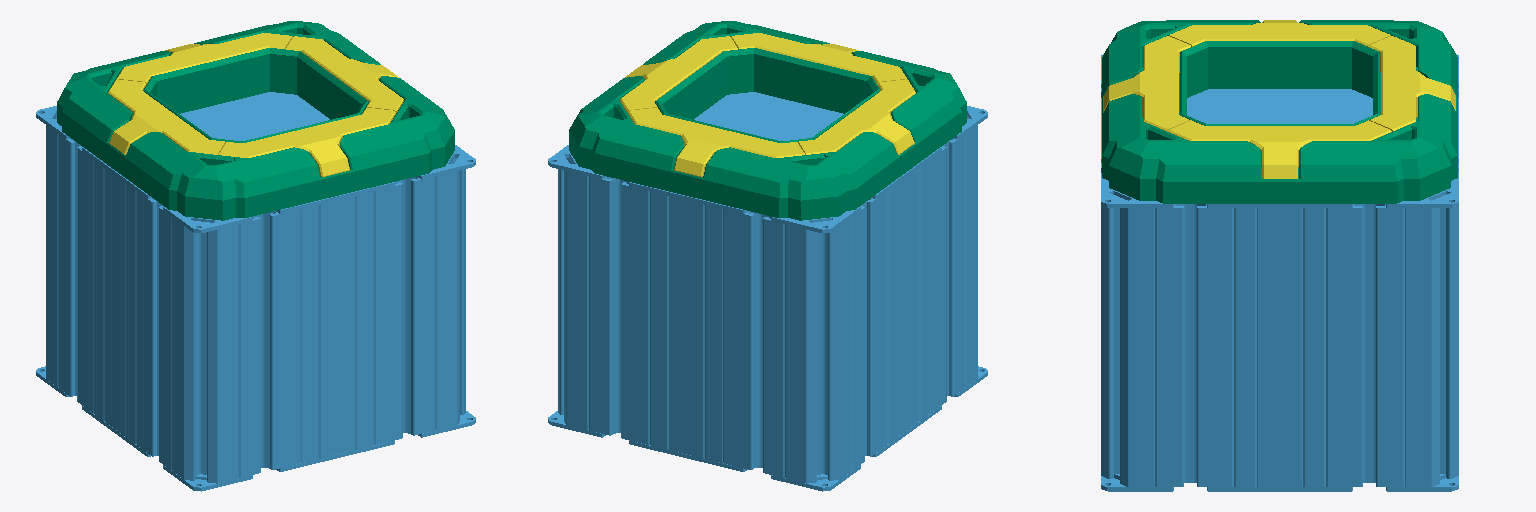
The robot description file, URDF, robot "battery_brick":
<?xml version="1.0" encoding="utf-8"?>
<robot name="battery_brick">
    <link name="base_link"/>
    <link name="base_link_inertia">
        <visual>
            <origin rpy="0 0 0" xyz="0 0 0"/>
            <geometry>
                <mesh filename="../meshes/general_brick_housing.obj"/>
            </geometry>
        </visual>
        <!-- Base joint -->
        <collision>
            <origin rpy="0 0 0" xyz="0.0 0.0 0.0"/>
            <geometry>
                <sphere radius="0.07"/>
            </geometry>
        </collision>
        <inertial>
            <mass value="4.0"/>
            <origin rpy="0 0 0" xyz="0 0 0"/>
            <inertia ixx="0.00443333156" ixy="0.0" ixz="0.0" iyy="0.00443333156" iyz="0.0" izz="0.0072"/>
        </inertial>
    </link>
    <link name="lid_link">
        <visual>
            <origin xyz="0 0 0" rpy="0 0 0"/>
            <geometry>
                <mesh filename="../meshes/lid.obj" scale="1 1 1"/>
            </geometry>
        </visual>

        <!--TODO: Set the correct collisions -->
        <collision>
            <origin xyz="0 0 0" rpy="0 0 0"/>
            <geometry>
                <box size="0.105 0.154 0.025" />
            </geometry>
        </collision>
    </link>
    <link name="lid_cover_link">
        <visual>
            <origin xyz="0 0 0" rpy="0 0 0.0"/>
            <geometry>
                <mesh filename="../meshes/lid_cover.obj" scale="1 1 1"/>
            </geometry>
        </visual>
        <collision>
            <origin xyz="0 0 0" rpy="1.570796327 0 0"/>
            <geometry>
                <cylinder radius="0.0515" length="0.035"/>
            </geometry>
        </collision>
    </link>
    <joint name="base_link-base_link_inertia" type="fixed">
        <parent link="base_link"/>
        <child link="base_link_inertia"/>
        <origin rpy="0 0 0" xyz="0 0 0"/>
    </joint>
    <joint name="base_link-lid_link" type="fixed">
        <parent link="base_link"/>
        <child link="lid_link"/>
        <origin rpy="0 0 0" xyz="0 0 0"/>
    </joint>
    <joint name="lid_link-lid_cover_link" type="fixed">
        <parent link="lid_link"/>
        <child link="lid_cover_link"/>
        <origin rpy="0 0 0" xyz="0 0 0"/>
    </joint>
</robot>

--- Render facts (derived) ---
The picture shows the robot from 3 angles, left to right: view 1: azimuth 30°, elevation 25°; view 2: azimuth 150°, elevation 25°; view 3: azimuth 270°, elevation 25°; orthographic projection.
Model battery_brick with 4 links and 3 joints (3 fixed), rooted at base_link, posed all joints at 0.
Visible links, largest first — view 1: base_link_inertia, lid_link, lid_cover_link; view 2: base_link_inertia, lid_link, lid_cover_link; view 3: base_link_inertia, lid_link, lid_cover_link.
Link boxes in pixels (box(x1,y1,x2,y2)): base_link_inertia: box(36, 92, 475, 491); lid_link: box(57, 21, 454, 220); lid_cover_link: box(108, 33, 403, 176); base_link_inertia: box(548, 92, 987, 491); lid_link: box(569, 21, 966, 220); lid_cover_link: box(620, 33, 915, 176); base_link_inertia: box(1101, 54, 1458, 491); lid_link: box(1102, 20, 1457, 203); lid_cover_link: box(1104, 20, 1455, 178).
Bounding box of the posed robot: 0.233 × 0.233 × 0.239 m (x, y, z).
3 mesh visuals loaded from 3 distinct referenced files (3 OBJ).